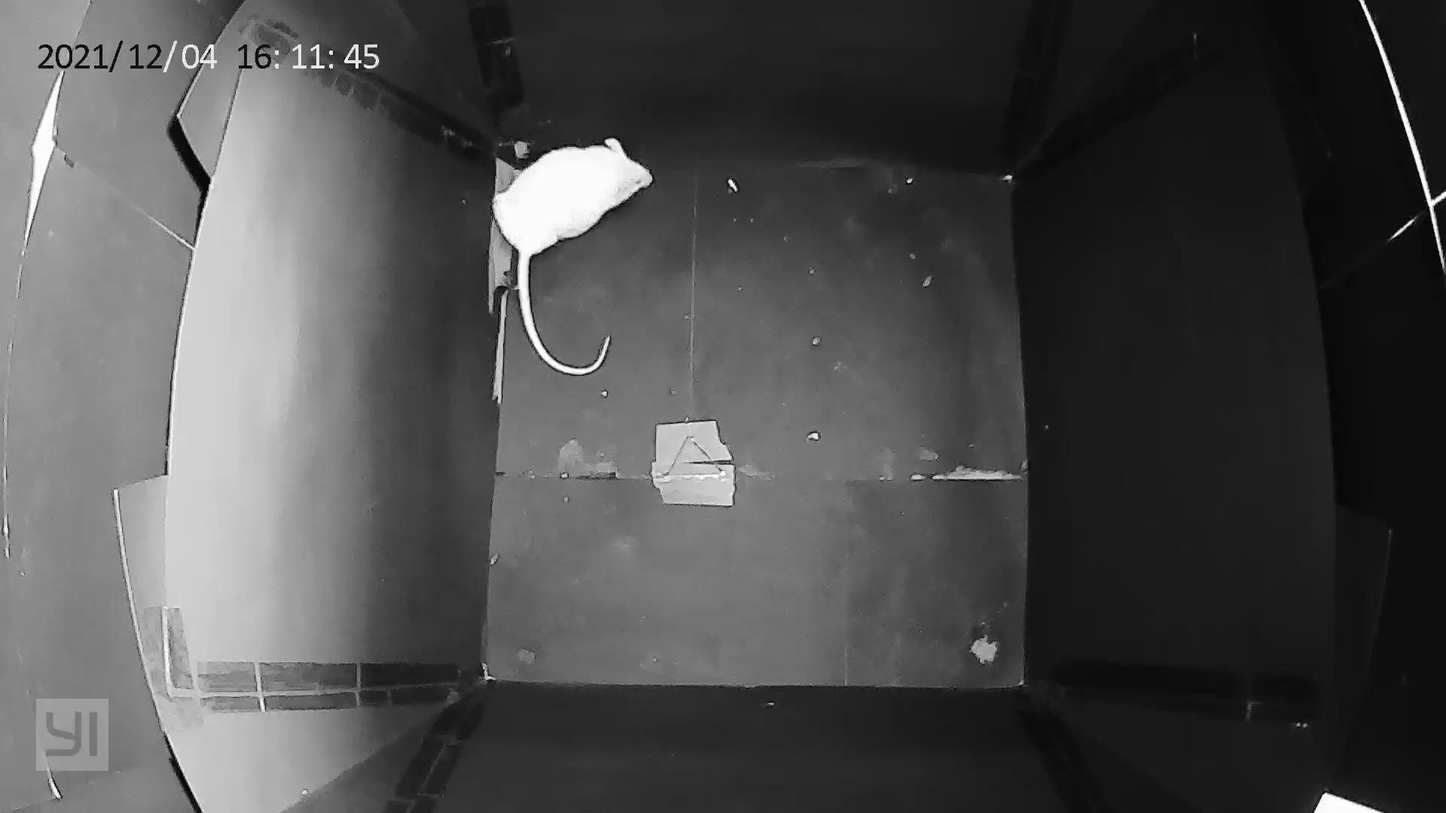rat: (458, 124, 663, 384)
